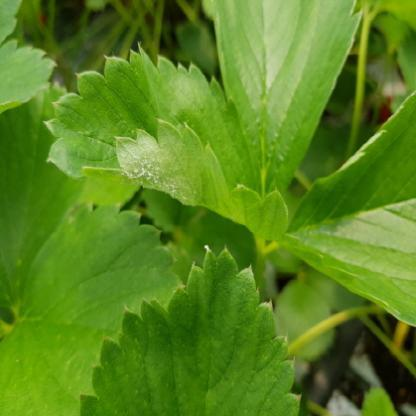Strawberry_Powdery_Mildew_Leaf: (41, 40, 301, 246)
